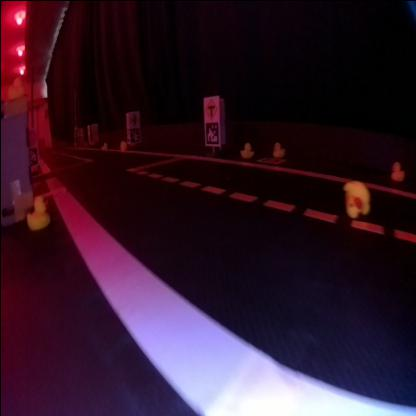Duckie: (342, 178, 368, 216), (25, 195, 48, 229), (390, 161, 402, 179), (272, 142, 284, 156), (240, 142, 251, 155)
Intersection sign: (204, 96, 218, 118), (127, 110, 138, 124)
QR code: (204, 120, 215, 142), (128, 128, 138, 140)
